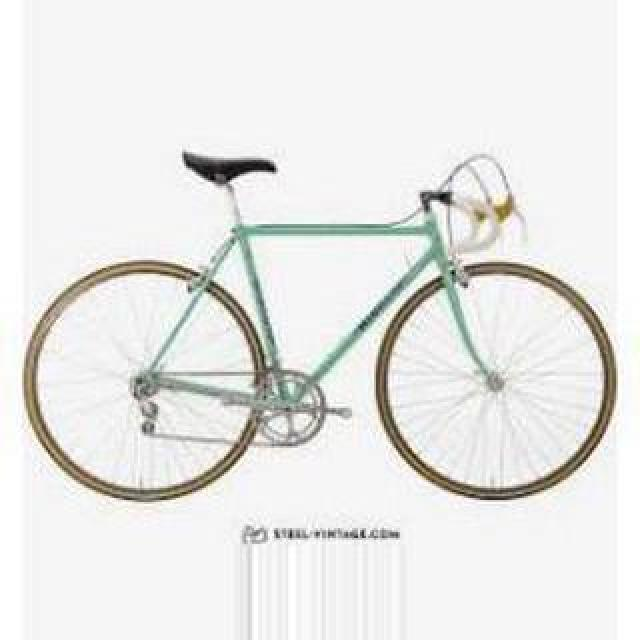Person: (20, 149, 620, 505)
